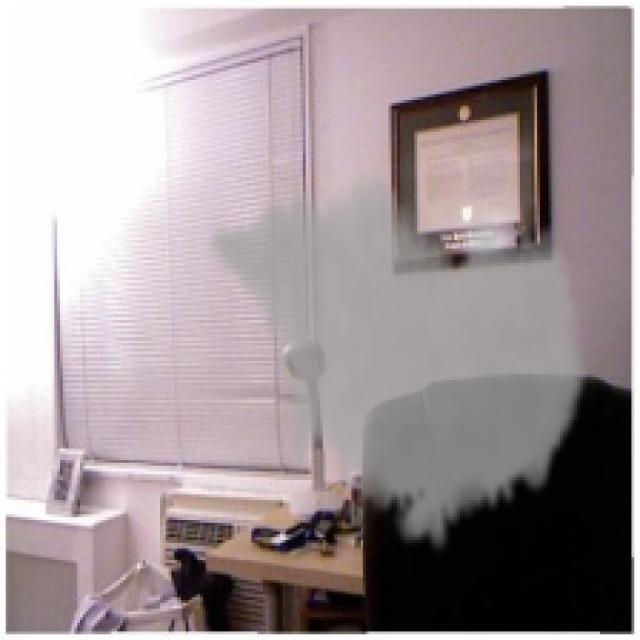Smoke: (206, 160, 592, 557)
